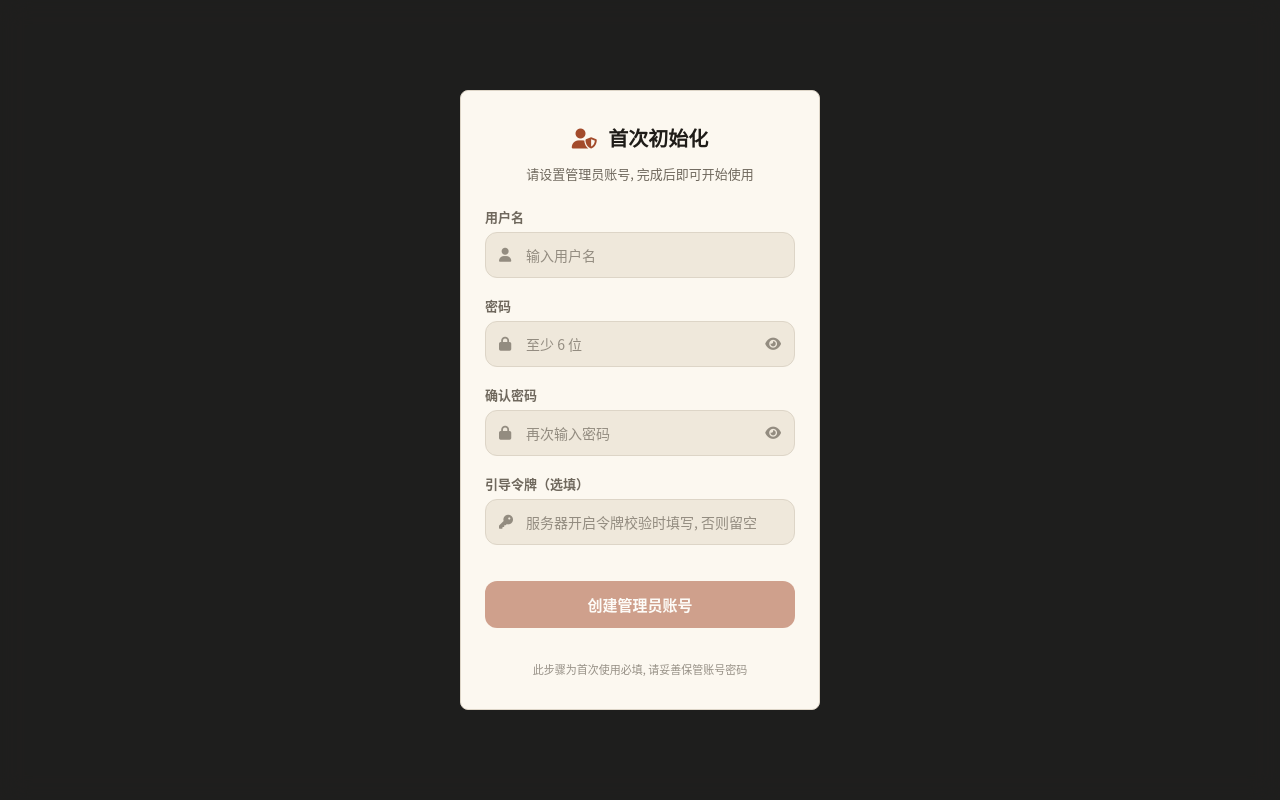
SetupOverlay › submit button state › 三个输入框都有内容时按钮可用
This screenshot has width=1280, height=800.
In the field with id "setup-username": (640, 255) [485, 232, 795, 278], type "admin"
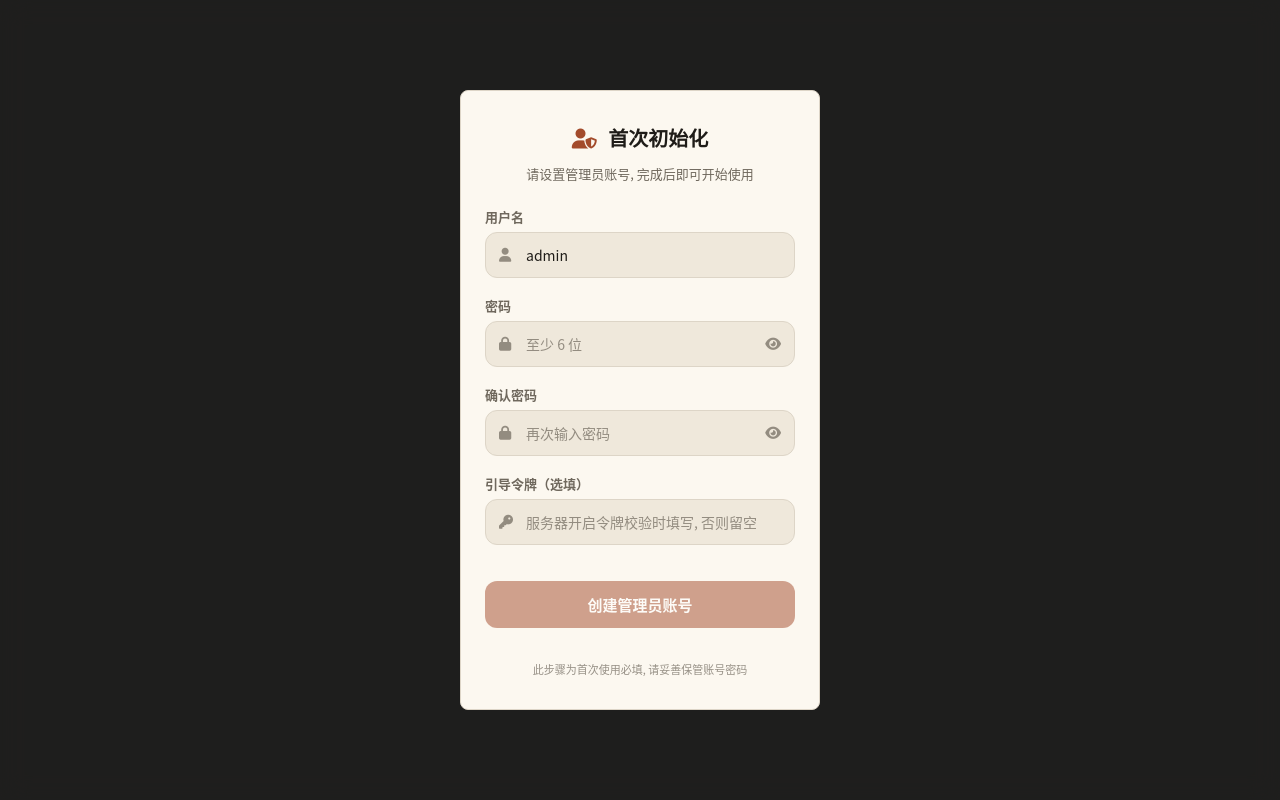
In the password field with id "setup-password": (640, 344) [485, 321, 795, 367], type "123456"
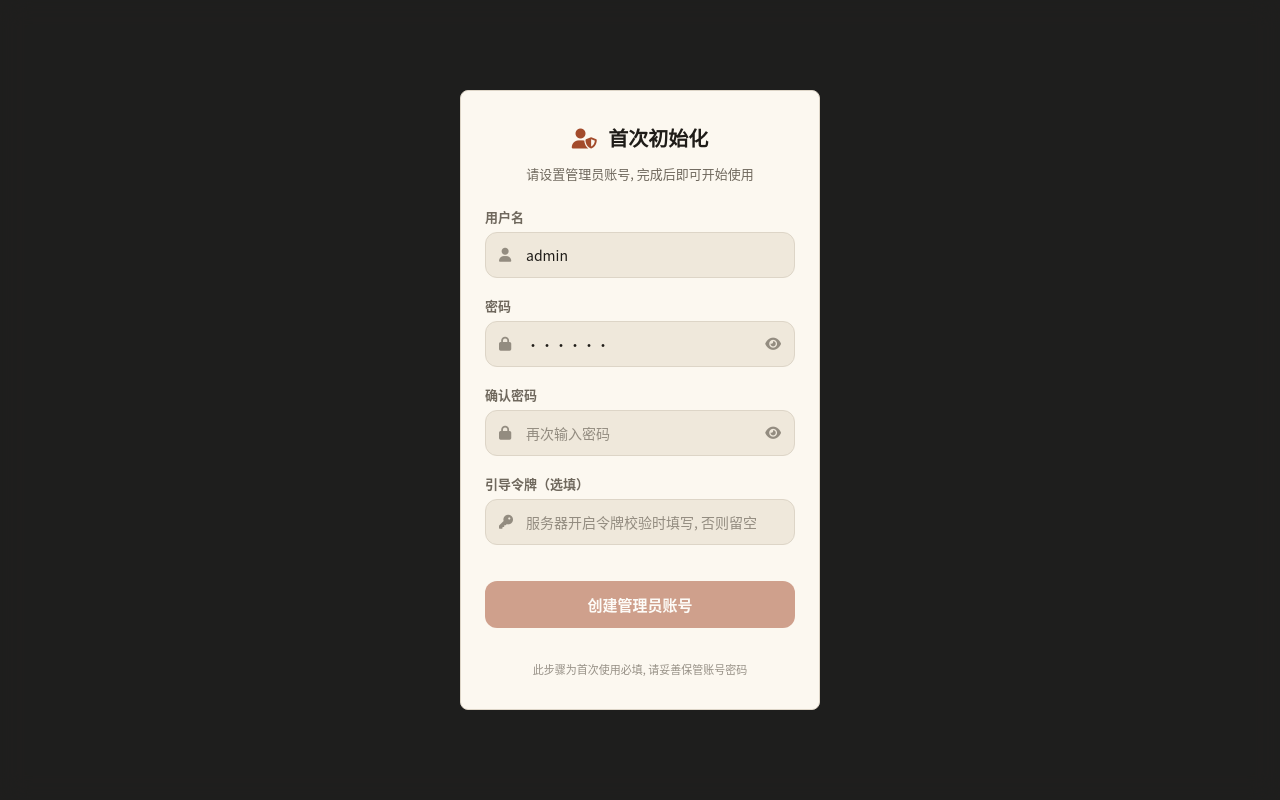
In the password field with id "setup-confirm": (640, 433) [485, 410, 795, 456], type "123456"
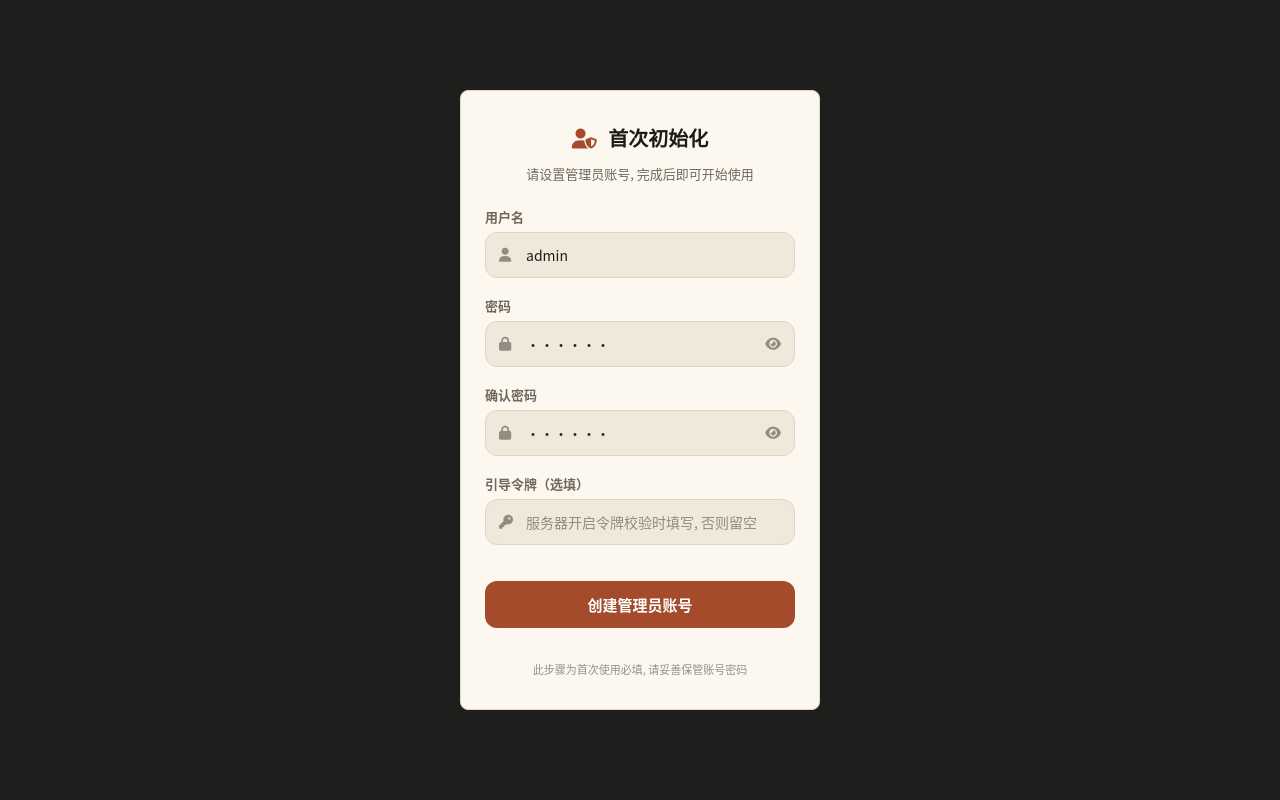
Now the button with class "setup-btn" is enabled, box [485, 581, 795, 628]
